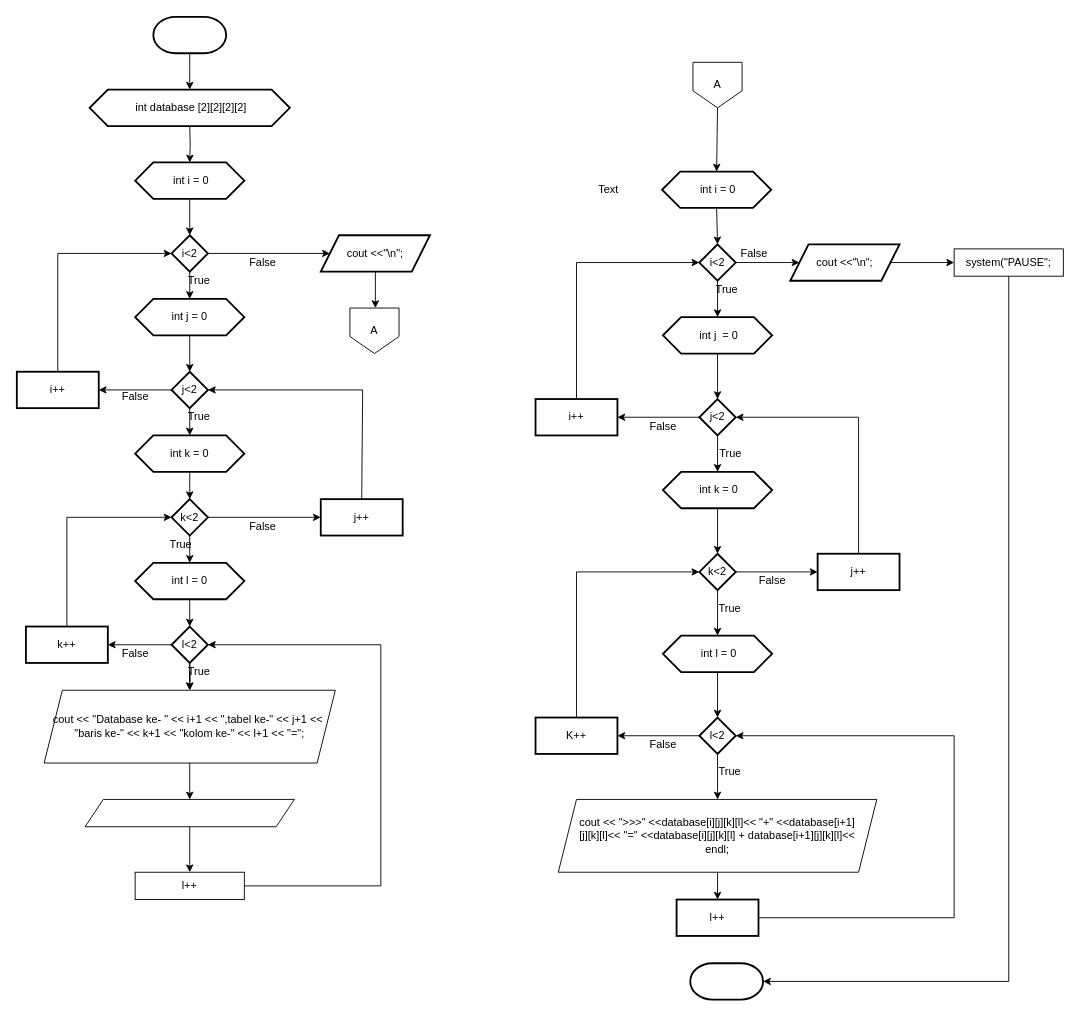
The diagram is 1079 pixels wide and 1016 high, and some of its shapes have lost their labels. Here are the shapes that lost their labels. From the top down, the centre of each, then its label:
At point 189,34: "START".
At point 189,813: "cin >> database [i][j][k][l];".
At point 726,981: "end".
